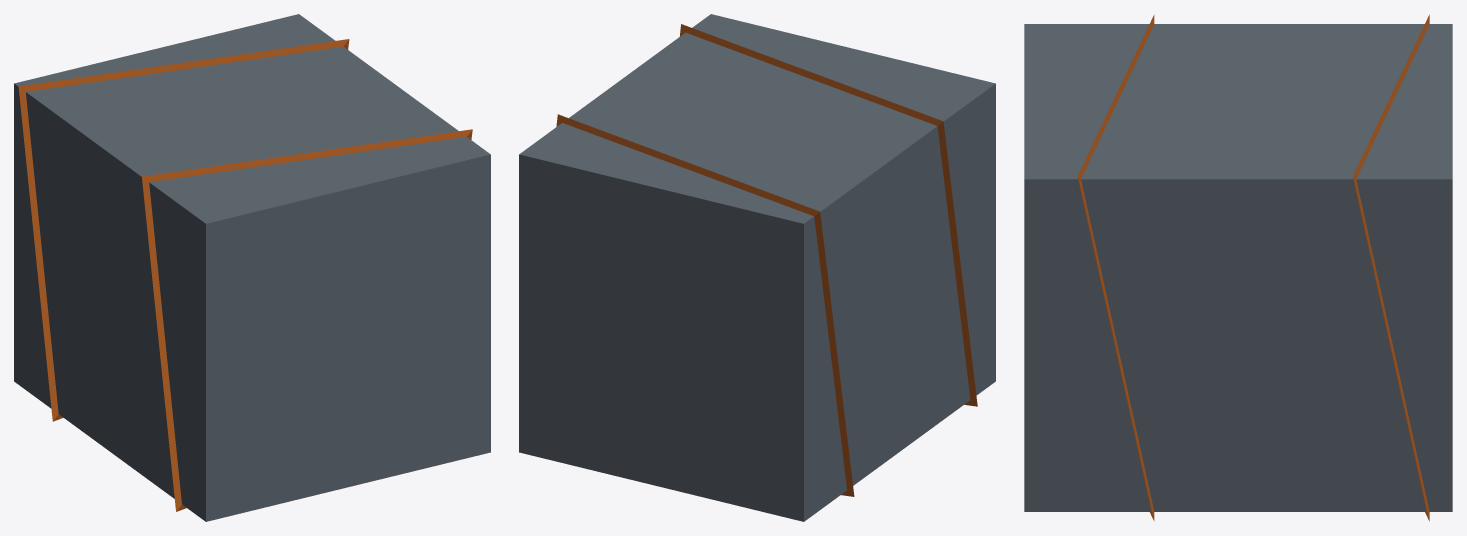
The model's file is vibro-mace.lod.glb.
The picture shows the model from 3 angles, left to right: view 1: azimuth 30°, elevation 25°; view 2: azimuth 150°, elevation 25°; view 3: azimuth 270°, elevation 25°; orthographic projection. The views are drawn at different scales.
Parts seen in each view (by area): view 1: vibro-mace; view 2: vibro-mace; view 3: vibro-mace.
Boxes of the visible parts, x1=… form: vibro-mace: x1=14, y1=14, x2=490, y2=521; vibro-mace: x1=519, y1=14, x2=995, y2=521; vibro-mace: x1=1024, y1=14, x2=1452, y2=521.
Bounding box in the file's own units: 0.125 × 0.125 × 0.14.
